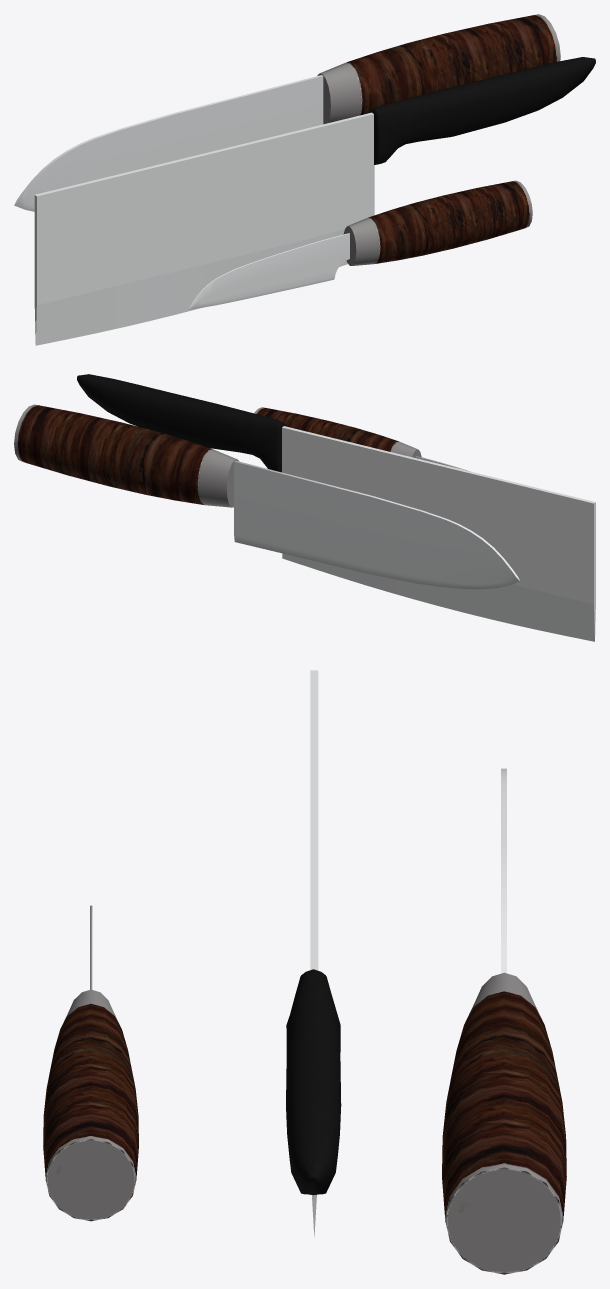
The model's file is Dao.fbx.
3 views of the same model, one above another, from view 1: azimuth 30°, elevation 25°; view 2: azimuth 150°, elevation 25°; view 3: azimuth 270°, elevation 25° (orthographic). The views are drawn at different scales.
Parts seen in each view (by area): view 1: CaiDao, ShuiGuoDao, QiePianDao1; view 2: CaiDao, ShuiGuoDao, QiePianDao1; view 3: ShuiGuoDao, QiePianDao1, CaiDao.
Boxes of the visible parts, box(x1,y1,x2,y2) form: CaiDao: box(34, 57, 595, 345); ShuiGuoDao: box(14, 14, 560, 211); QiePianDao1: box(188, 180, 532, 309); CaiDao: box(77, 374, 595, 641); ShuiGuoDao: box(14, 404, 520, 589); QiePianDao1: box(254, 407, 467, 470); ShuiGuoDao: box(442, 768, 566, 1274); QiePianDao1: box(43, 905, 138, 1221); CaiDao: box(286, 670, 341, 1237).
Bounding box in the file's own units: 29.87 × 8.24 × 13.06.
